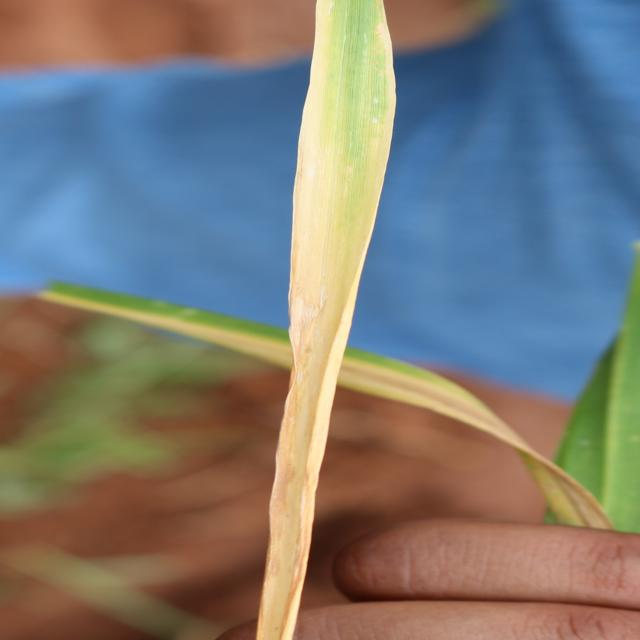Septoria: (252, 1, 399, 637)
